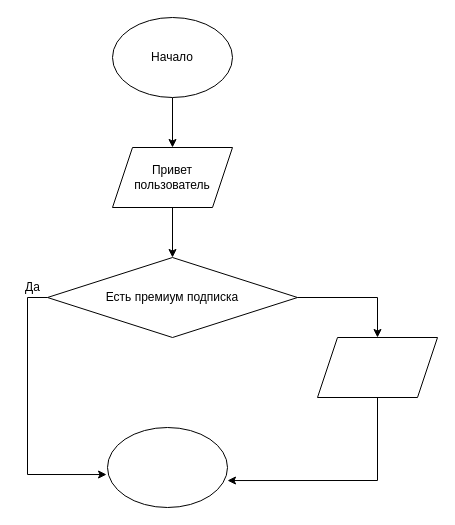
Some shapes in this 455 by 525 pixel diagram are drawn without their labels. The shapes that lost their labels are listed below. From the top down, each one's centre as x and y in pixels, then its label:
At [377,367]: "Показиваем рекламу".
At [167,467]: "Конец".
